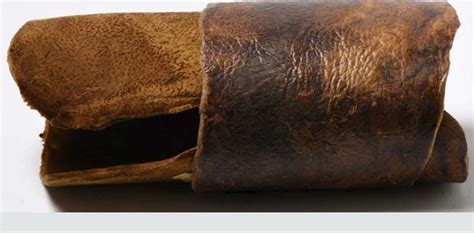cuero: (8, 2, 472, 197)
